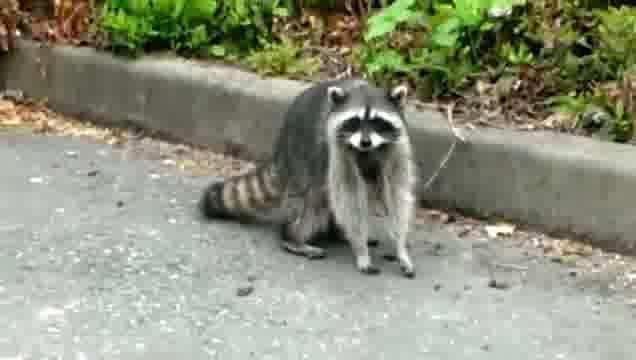raccoon: (200, 75, 419, 280)
